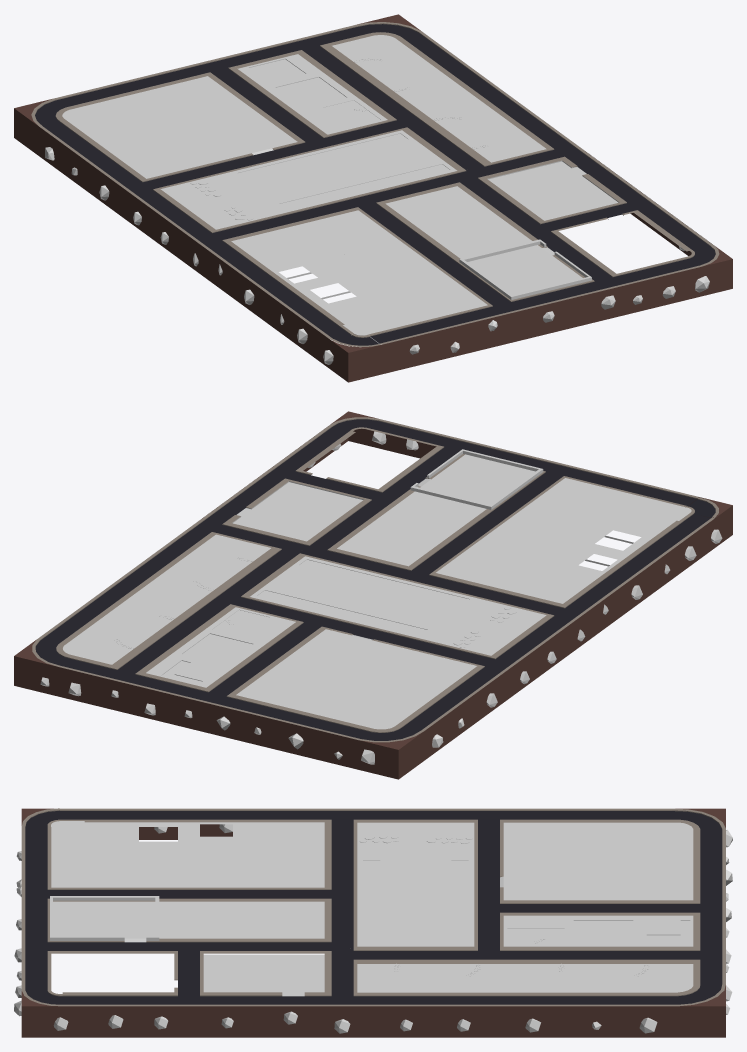
Rendered from cityChao.glb.
3 renders of one model, top to bottom at view 1: azimuth 30°, elevation 25°; view 2: azimuth 150°, elevation 25°; view 3: azimuth 270°, elevation 25°, orthographic. The views are drawn at different scales.
Parts seen in each view (by area): view 1: Strada.013, Plane.001, Plane.004, Piazzetta, Plane.011, Plane.006, Plane.010, Plane.007, Plane.012, Plane.009, Plane.003, Plane.005 (+1 smaller); view 2: Strada.013, Plane.001, Plane.004, Piazzetta, Plane.011, Plane.006, Plane.010, Plane.007, Plane.012, Plane.009, Plane.003, Plane.005 (+1 smaller); view 3: Strada.013, Plane.001, Plane.004, Piazzetta, Plane.011, Plane.006, Plane.010, Plane.007, Plane.012, Plane.009, Plane.003, Plane.005 (+1 smaller).
Part boxes in pixels (x1,y1,x2,y2): Strada.013: (31,22,719,347); Plane.001: (14,14,732,382); Plane.004: (62,76,297,178); Piazzetta: (233,130,457,211); Plane.011: (332,35,546,162); Plane.006: (231,224,432,335); Plane.010: (303,210,487,318); Plane.007: (237,54,387,134); Plane.012: (385,186,531,257); Plane.009: (487,160,619,220); Plane.003: (160,171,287,229); Plane.005: (460,240,582,295); Strada.013: (32,417,718,742); Plane.001: (14,411,732,779); Plane.004: (236,629,476,729); Piazzetta: (250,556,473,637); Plane.011: (63,534,270,664); Plane.006: (491,491,691,603); Plane.010: (436,478,620,586); Plane.007: (146,607,295,687); Plane.012: (337,494,482,566); Plane.009: (232,481,363,541); Plane.003: (419,597,546,655); Plane.005: (411,454,535,511); Strada.013: (21,808,725,1006); Plane.001: (21,808,725,1037); Plane.004: (500,822,693,900); Piazzetta: (357,859,474,946); Plane.011: (357,964,693,992); Plane.006: (51,821,324,859); Plane.010: (51,859,324,887); Plane.007: (503,915,693,946); Plane.012: (167,901,324,938); Plane.009: (203,954,324,996); Plane.003: (357,822,474,859); Plane.005: (53,901,167,942).
Bounding box in the file's own units: 102 × 7.99 × 151.
